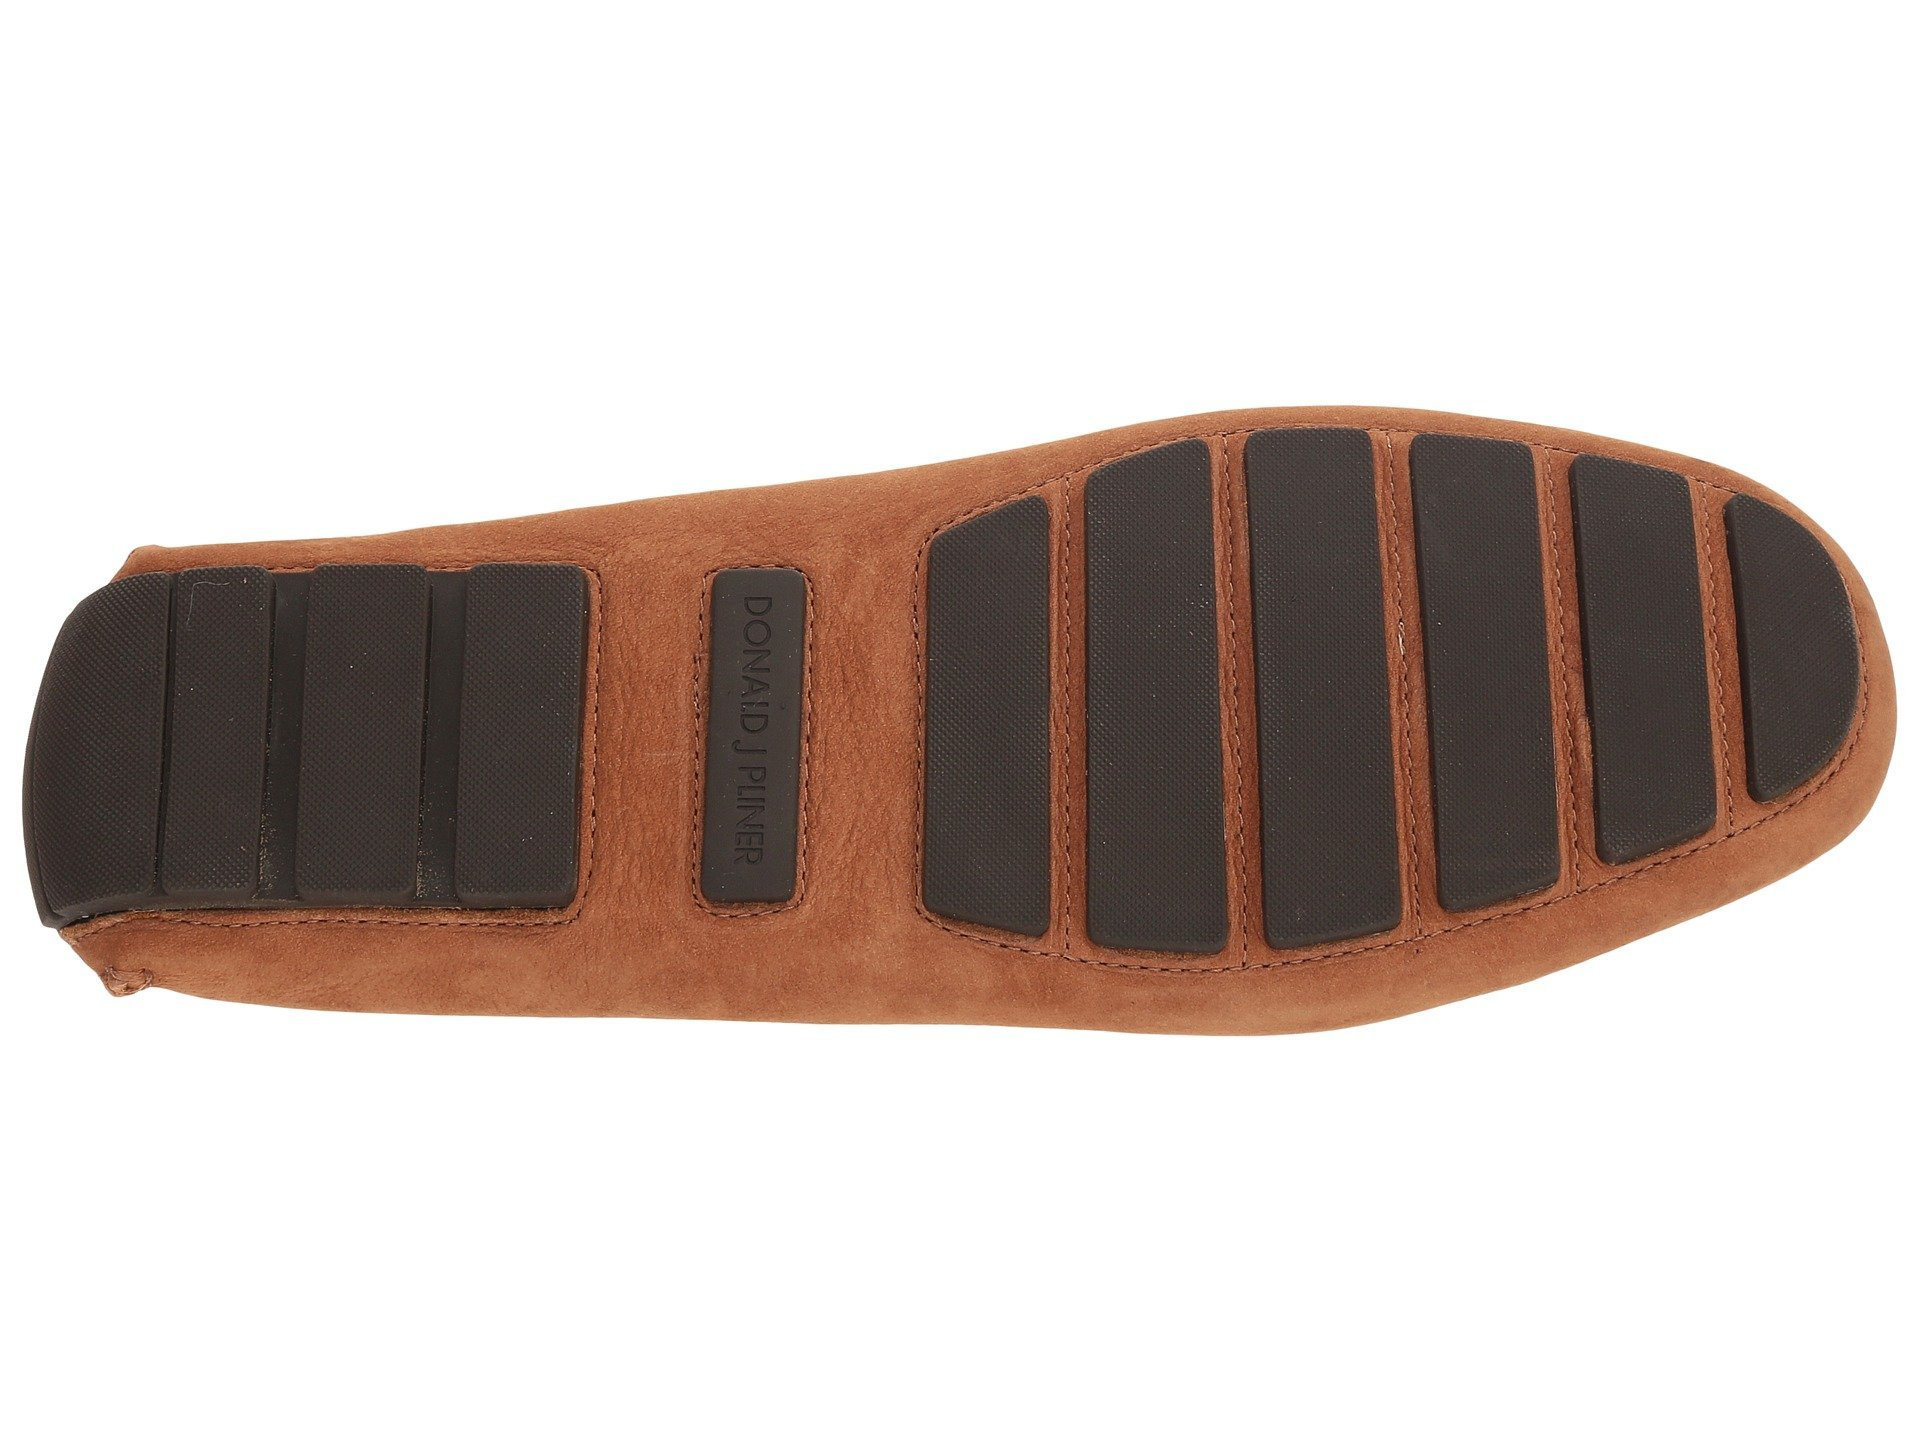circle: (689, 535, 825, 964)
line: (1191, 428, 1593, 961)
quad: (1191, 428, 1593, 961), (689, 535, 825, 964)
text: (689, 535, 825, 964)
